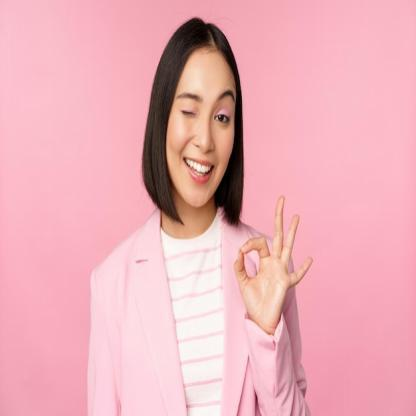ok: (232, 190, 314, 332)
